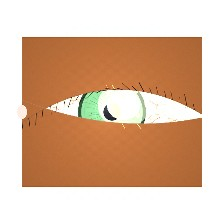corneal_ulcer: (97, 83, 151, 127)
